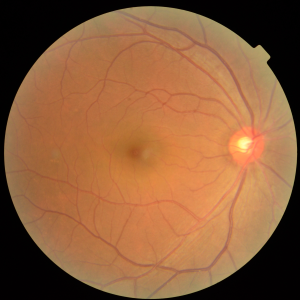healthy_eye: (33, 97, 276, 196)
